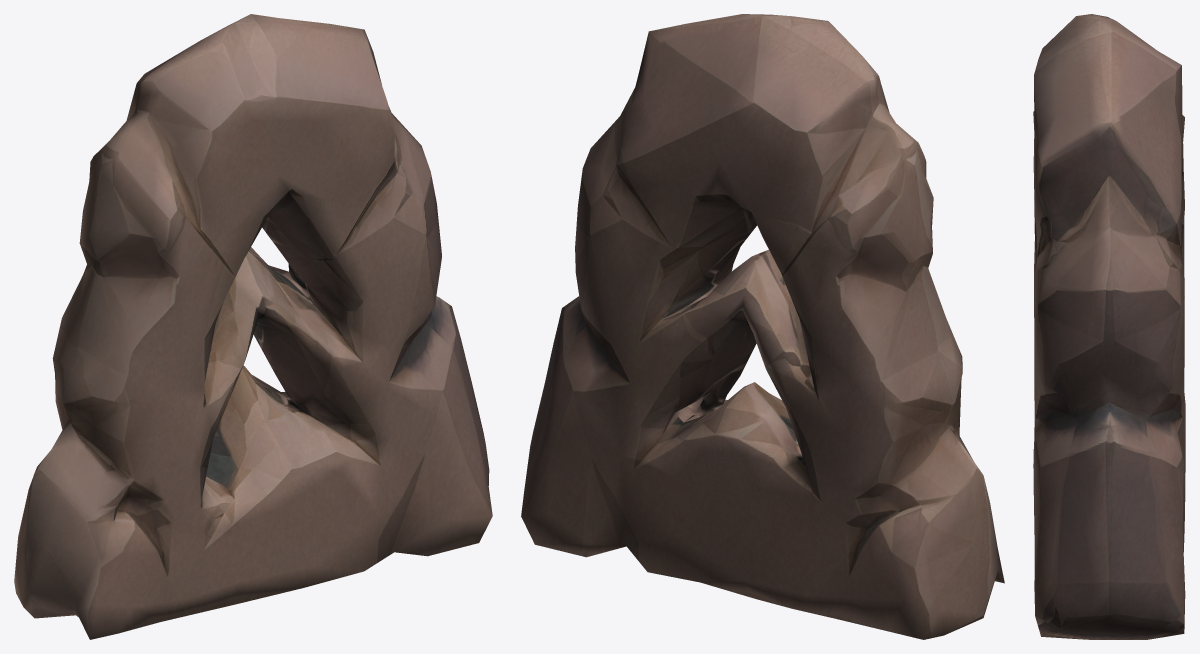
Rendered from PowerRune_1000.fbx.
3 views of the same model, side by side, from view 1: azimuth 30°, elevation 25°; view 2: azimuth 150°, elevation 25°; view 3: azimuth 270°, elevation 25° (orthographic). The views are drawn at different scales.
Visible parts, largest first — view 1: texture_mapping; view 2: texture_mapping; view 3: texture_mapping.
Boxes of the visible parts, x1,y1,x2,y2 form: texture_mapping: (14, 14, 492, 639); texture_mapping: (521, 14, 1004, 639); texture_mapping: (1033, 14, 1185, 639).
Size of the model in its own units: 0.8597 by 0.2626 by 0.9905.
1 material, 1 textured.
